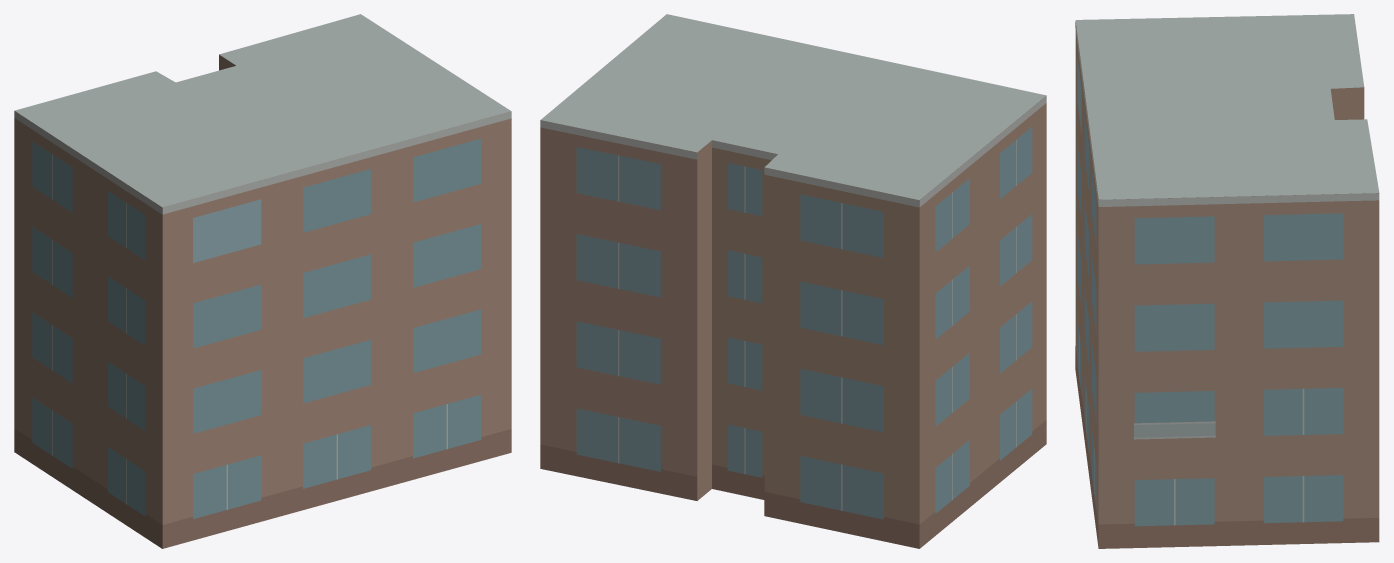
Rendered from survey-upis-32623288.glb.
The picture shows the model from 3 angles, left to right: view 1: azimuth 30°, elevation 25°; view 2: azimuth 150°, elevation 25°; view 3: azimuth 270°, elevation 25°; orthographic projection. The views are drawn at different scales.
Visible parts, largest first — view 1: survey-upis-32623288.tmp; view 2: survey-upis-32623288.tmp; view 3: survey-upis-32623288.tmp.
Part boxes in pixels (left/top/right/bottom): survey-upis-32623288.tmp: left=14, top=14, right=511, bottom=548; survey-upis-32623288.tmp: left=540, top=14, right=1046, bottom=548; survey-upis-32623288.tmp: left=1075, top=14, right=1379, bottom=548.
Size of the model in its own units: 13.25 by 11.6 by 9.17.
